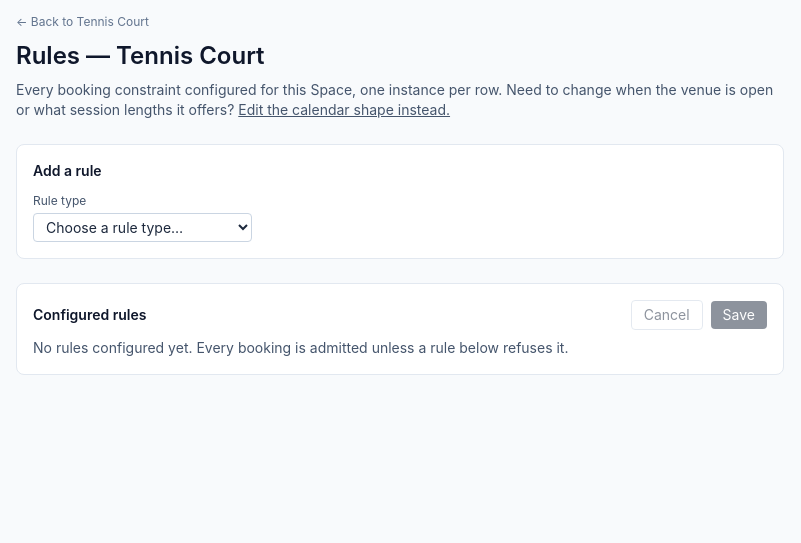
it: SpaceRulesPage — generic over the registry › renders the selected type's description, proving the picker is not a hardcoded list
The width and height of the screenshot is (801, 543).
Select "Invented Thing (test only)" in the dropdown with test id "add-rule-type-select" at (142, 228), box top-left (33, 213), bottom-right (252, 242)
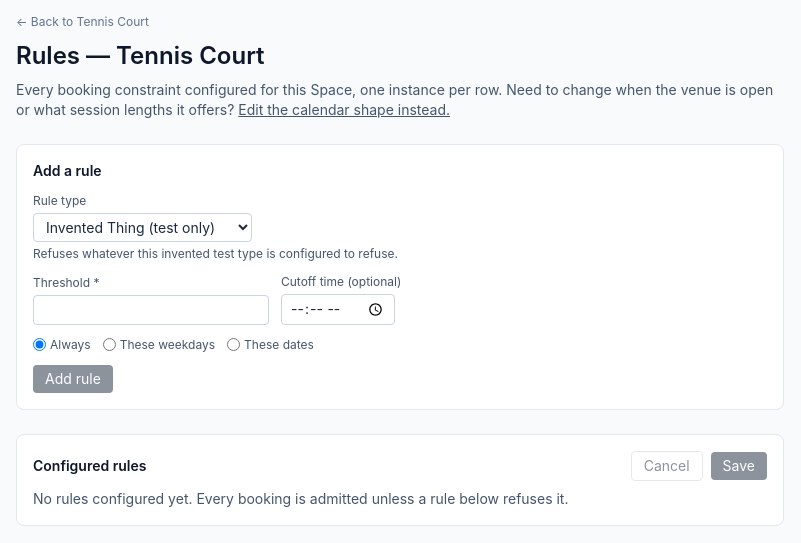
Expected: the text with test id "add-rule-type-description" reads "Refuses whatever this invented test type is configured to refuse.", top-left (33, 246), bottom-right (398, 261)
